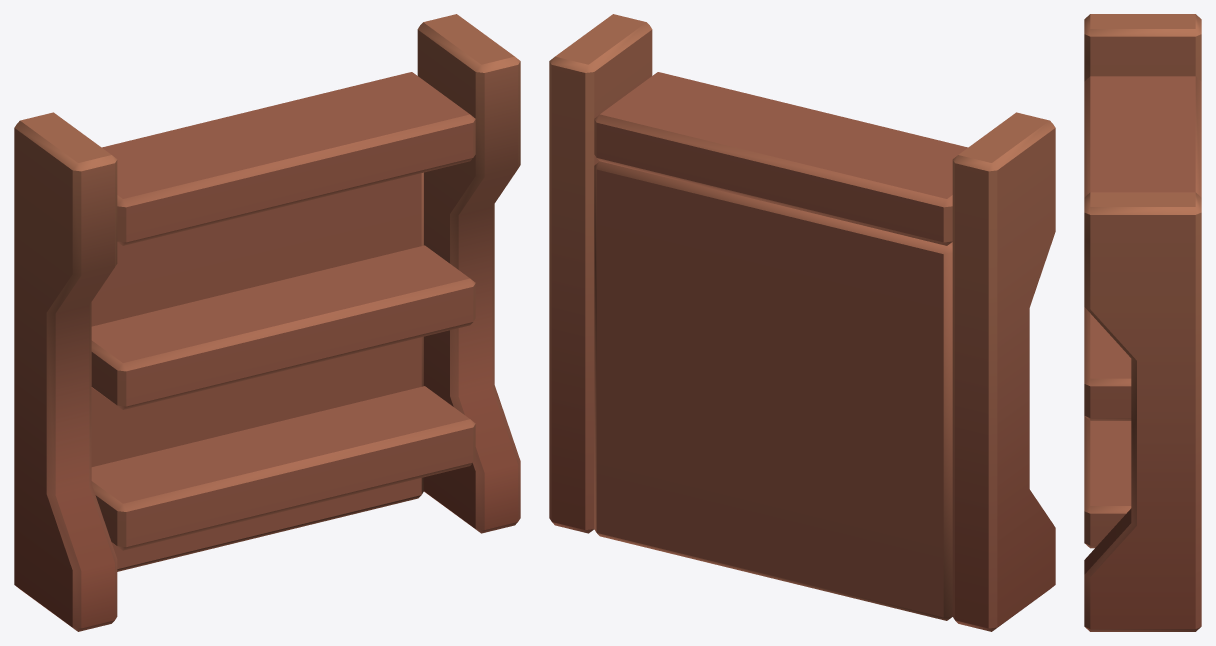
File: bartop_B_medium.glb
3 renders of one model, left to right at view 1: azimuth 30°, elevation 25°; view 2: azimuth 150°, elevation 25°; view 3: azimuth 270°, elevation 25°, orthographic. The views are drawn at different scales.
Parts seen in each view (by area): view 1: bartop_B_medium; view 2: bartop_B_medium; view 3: bartop_B_medium.
Boxes of the visible parts, <box> form: bartop_B_medium: <box>14,14,520,631</box>; bartop_B_medium: <box>549,14,1055,631</box>; bartop_B_medium: <box>1084,14,1201,631</box>.
Bounding box in the file's own units: 2 × 2 × 0.5.
1 material, 1 textured.
